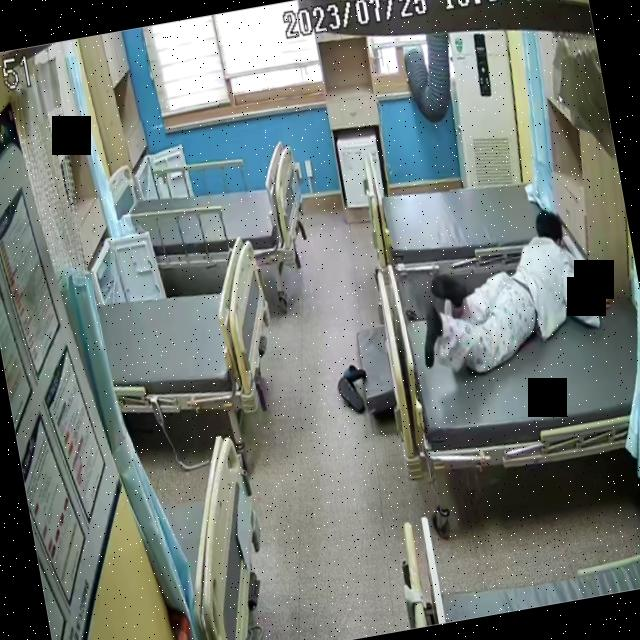bed: (368, 221, 640, 485), (358, 112, 568, 298), (94, 237, 284, 429), (124, 145, 310, 287)
danger: (397, 196, 616, 385)
patient: (397, 197, 618, 385)
